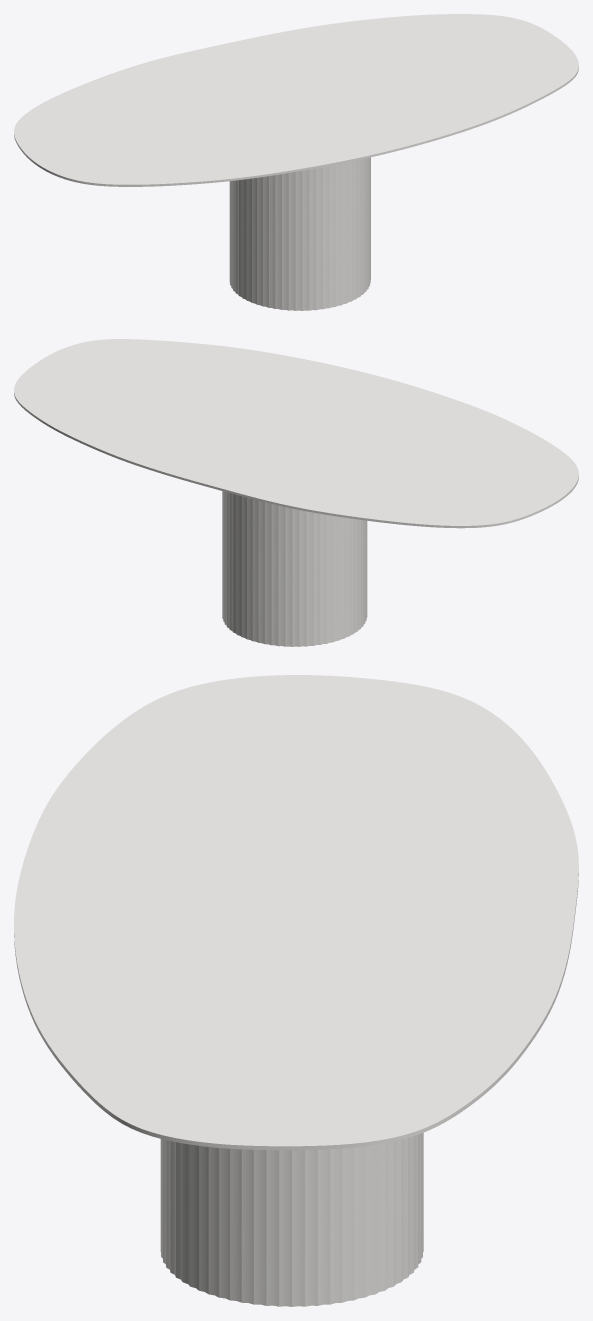
File: purewhite_danish_facet_ripple.glb
The picture shows the model from 3 angles, top to bottom: view 1: azimuth 30°, elevation 25°; view 2: azimuth 150°, elevation 25°; view 3: azimuth 270°, elevation 25°; orthographic projection. The views are drawn at different scales.
Visible parts, largest first — view 1: facet_danish, ripple; view 2: facet_danish, ripple; view 3: facet_danish, ripple.
Boxes of the visible parts, x1,y1,x2,y2 form: facet_danish: (14,14,578,186); ripple: (229,157,370,310); facet_danish: (14,339,578,528); ripple: (222,491,367,646); facet_danish: (14,675,578,1150); ripple: (160,1132,423,1306).
Size of the model in its own units: 7.5 by 2.51 by 3.8.
1 material, 1 textured.
